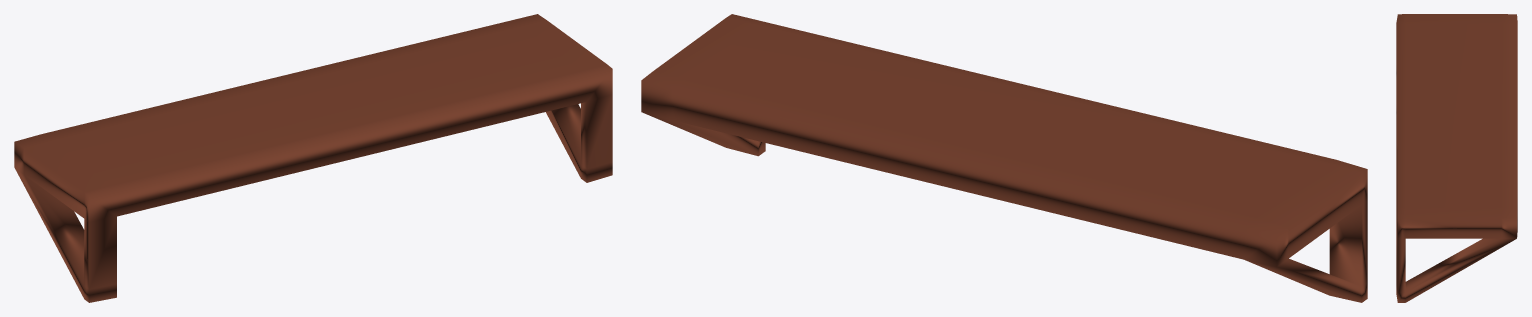
The model's file is WallShelf.fbx.
The picture shows the model from 3 angles, left to right: view 1: azimuth 30°, elevation 25°; view 2: azimuth 150°, elevation 25°; view 3: azimuth 270°, elevation 25°; orthographic projection. The views are drawn at different scales.
Visible parts, largest first — view 1: Shelf_Wall; view 2: Shelf_Wall; view 3: Shelf_Wall.
Part boxes in pixels (x1,y1,x2,y2): Shelf_Wall: [14, 14, 612, 302]; Shelf_Wall: [641, 14, 1367, 302]; Shelf_Wall: [1396, 14, 1517, 302].
Size of the model in its own units: 2513 by 495 by 635.
